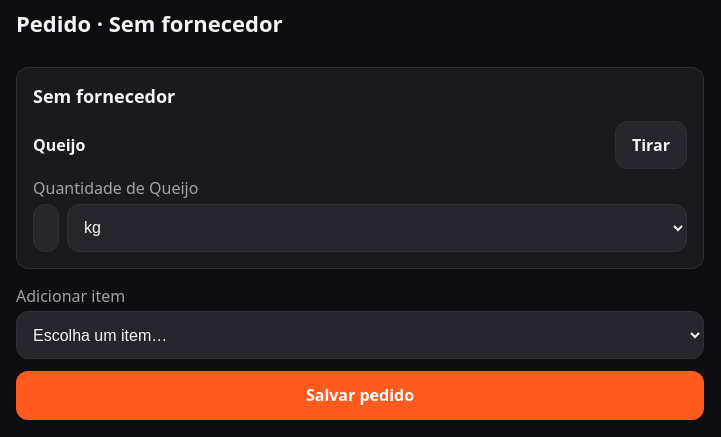
Scenario: Lista de compras › sem fornecedor: itens sem fornecedor, só planilha e dá para adicionar outro item
The image size is (721, 437).
Click the button "Salvar pedido" at (360, 395), box top-left (16, 371), bottom-right (704, 420)
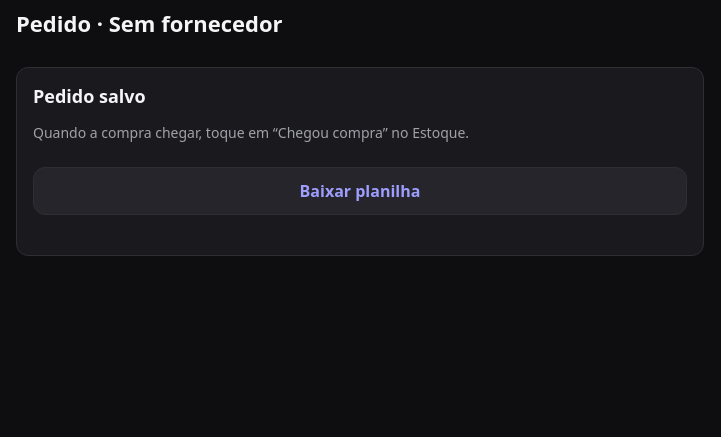
Check: the link "Baixar planilha" is shown, box top-left (33, 167), bottom-right (687, 215)
